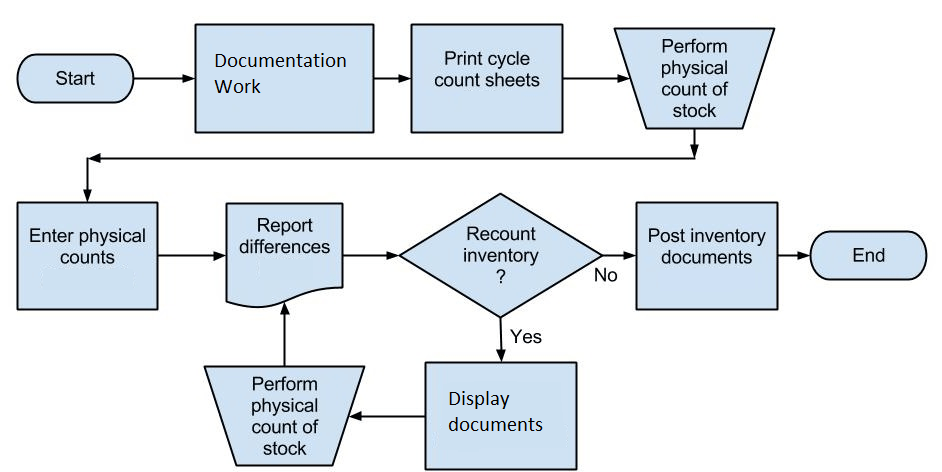arrow: (88, 148, 700, 166), (275, 300, 294, 366), (348, 408, 428, 423), (338, 249, 400, 263), (156, 250, 227, 262), (562, 73, 631, 85), (494, 315, 510, 360), (130, 72, 198, 82), (596, 249, 636, 264), (373, 70, 410, 86), (83, 157, 95, 201), (686, 130, 704, 156), (778, 249, 811, 261)
decision: (397, 192, 604, 318)
process: (190, 20, 379, 136), (406, 18, 568, 137), (421, 357, 581, 472), (610, 24, 779, 132), (202, 363, 366, 472), (632, 198, 782, 315), (13, 198, 163, 315), (222, 199, 350, 308)
terminator: (14, 50, 136, 107), (807, 228, 930, 284)
text: (246, 373, 325, 457), (213, 49, 350, 96), (659, 35, 733, 120), (461, 220, 546, 285), (646, 225, 769, 266), (27, 224, 149, 265), (446, 388, 546, 434), (434, 47, 542, 88), (238, 215, 331, 257), (54, 67, 98, 88), (850, 244, 888, 265), (508, 324, 543, 345), (592, 265, 621, 283)
